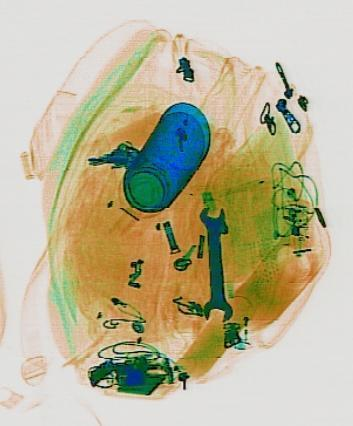Wrench: (198, 204, 232, 322)
